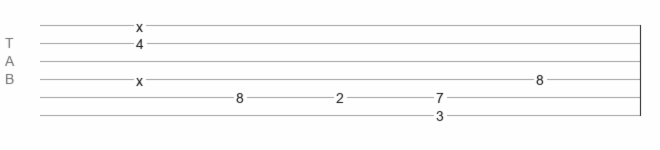2: (336, 90, 344, 100)
3: (436, 108, 444, 118)
4: (136, 36, 144, 46)
7: (436, 90, 444, 100)
8: (236, 90, 244, 100), (536, 72, 544, 82)
x: (136, 19, 143, 27), (136, 73, 143, 81)
